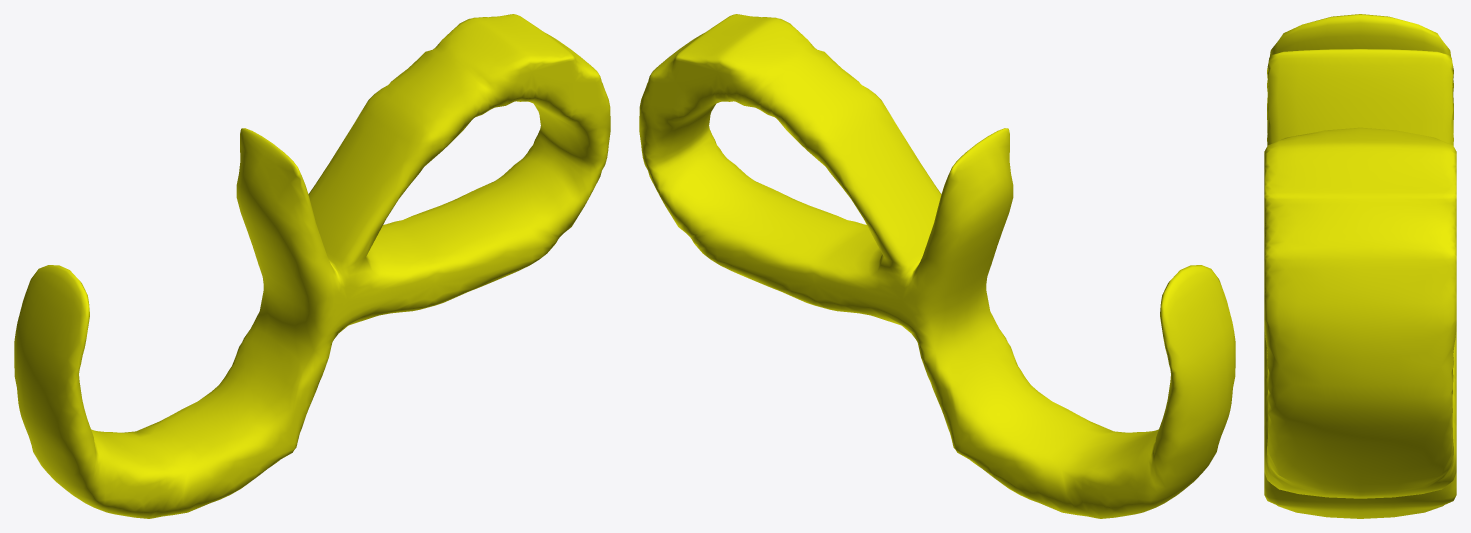
3 renders of one model, left to right at view 1: azimuth 30°, elevation 25°; view 2: azimuth 150°, elevation 25°; view 3: azimuth 270°, elevation 25°, orthographic. The views are drawn at different scales.
Visible parts, largest first — view 1: char_1; view 2: char_1; view 3: char_1.
Part boxes in pixels (x1=…): char_1: x1=14, y1=14, x2=610, y2=518; char_1: x1=639, y1=14, x2=1235, y2=518; char_1: x1=1264, y1=14, x2=1456, y2=518.
Bounding box in the file's own units: 8.03 × 5.32 × 1.5.
